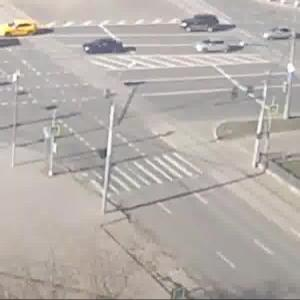car: (81, 37, 124, 58), (179, 18, 227, 36), (1, 21, 41, 40), (267, 27, 300, 47), (196, 40, 232, 53)
